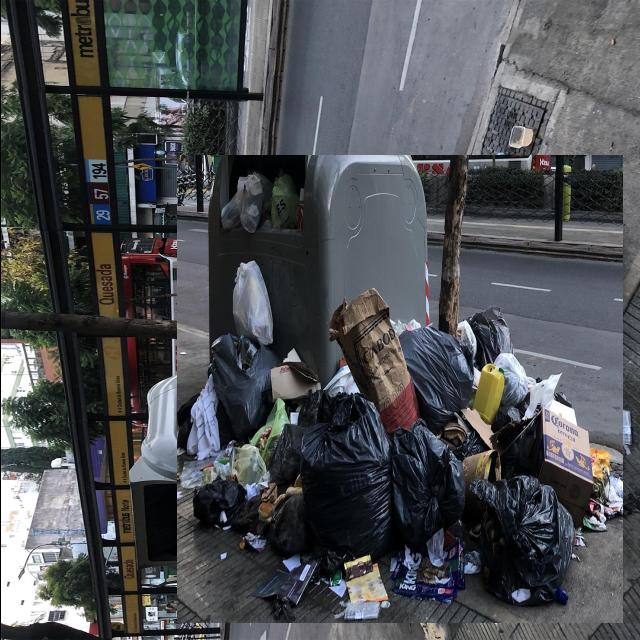garbage: (171, 160, 628, 618)
